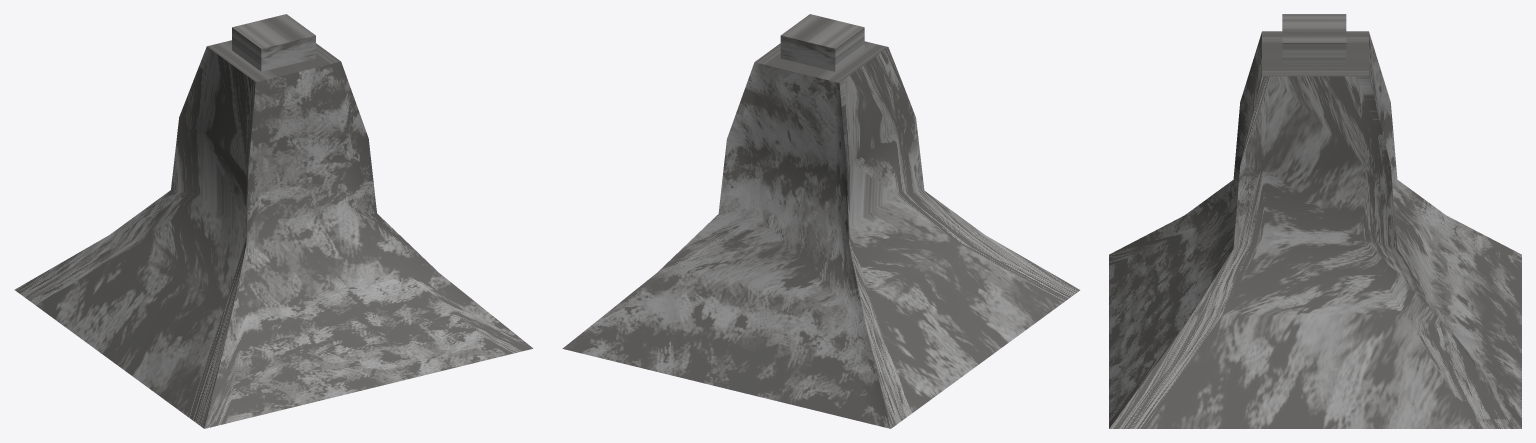
File: Warehouse_Light.fbx
3 renders of one model, left to right at view 1: azimuth 30°, elevation 25°; view 2: azimuth 150°, elevation 25°; view 3: azimuth 270°, elevation 25°, orthographic. The views are drawn at different scales.
Parts seen in each view (by area): view 1: pCube2; view 2: pCube2; view 3: pCube2.
Part boxes in pixels (x1,y1,x2,y2): pCube2: [14, 14, 532, 428]; pCube2: [562, 14, 1080, 428]; pCube2: [1109, 14, 1521, 428].
Bounding box in the file's own units: 135 × 113 × 135.
Materials: 1 (1 with a texture image).
